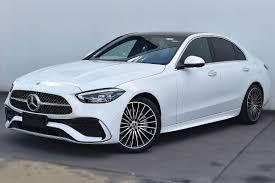mercedes: (25, 91, 43, 113)
